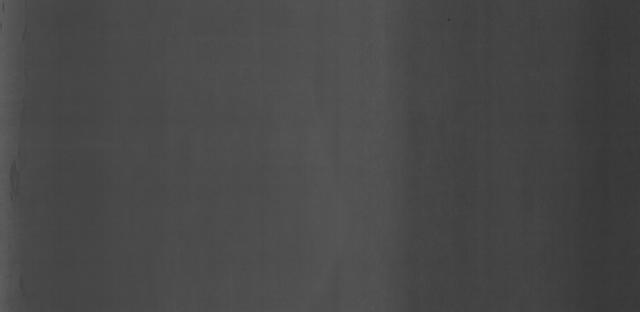inclusion: (444, 15, 453, 24)
